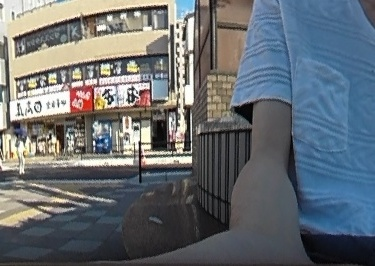person: (14, 130, 29, 173)
